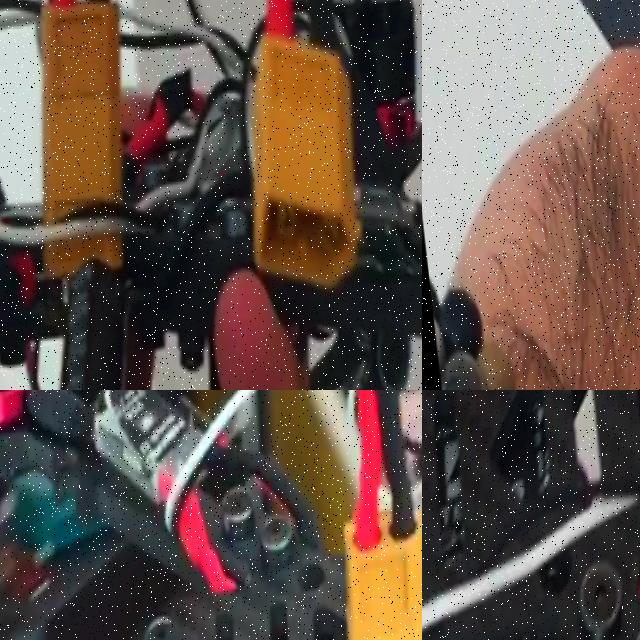drone: (0, 0, 422, 390), (0, 390, 422, 640), (422, 0, 640, 390), (422, 390, 640, 640)
